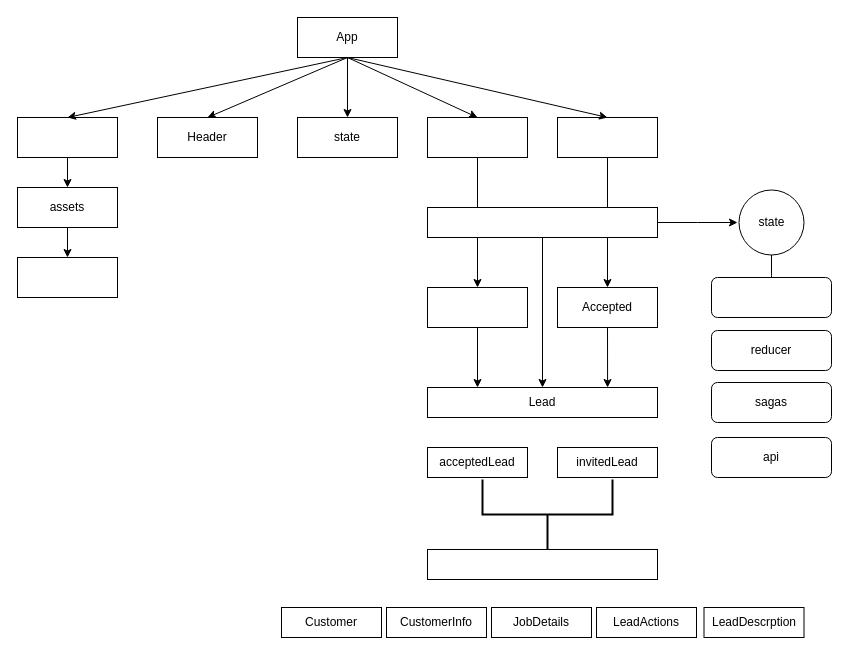
Some shapes in this 849 by 655 pixel diagram are drawn without their labels. Each missing label, with the centre of its shape:
"actions" belongs at point 771,297.
"components" belongs at point 542,564.
"Invited" belongs at point 477,307.
"Leads" belongs at point 542,222.
"lib" belongs at point 67,277.
"Route: /" belongs at point 477,137.
"Route: /accepted" belongs at point 607,137.
"shared" belongs at point 67,137.
